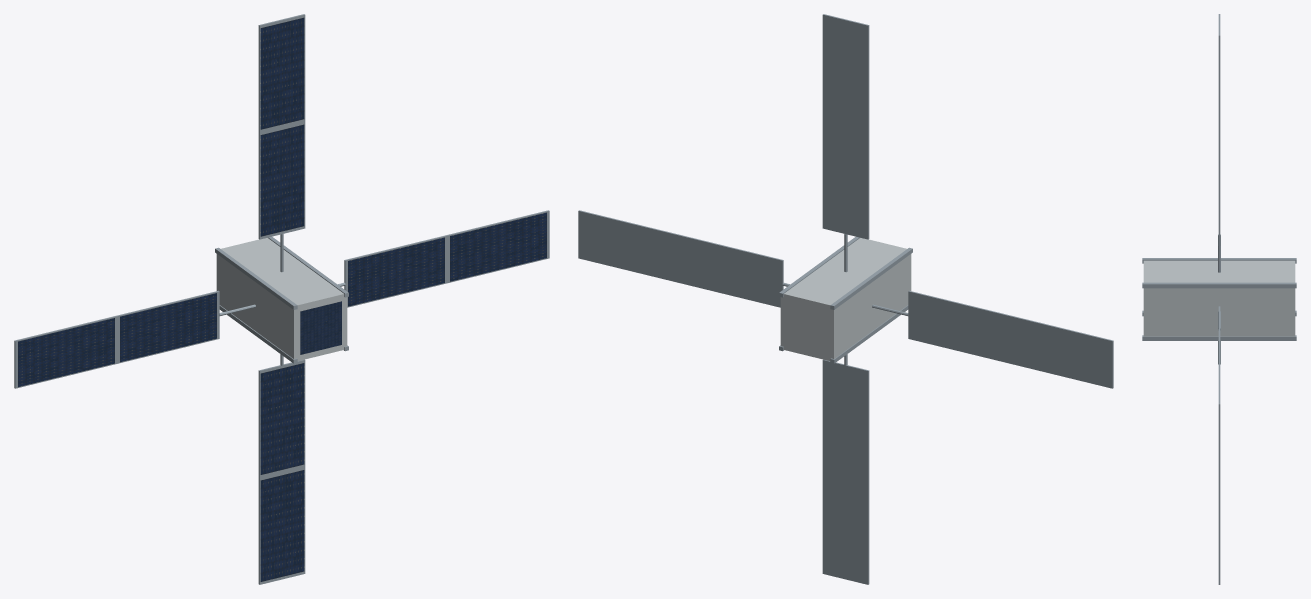
Rendered from ref-cubesat-16u-59146.glb.
3 renders of one model, left to right at view 1: azimuth 30°, elevation 25°; view 2: azimuth 150°, elevation 25°; view 3: azimuth 270°, elevation 25°, orthographic.
Parts seen in each view (by area): view 1: Photovoltaic laminates (×8), Spacecraft body, Array frame (×8), Body-mounted cells; view 2: Array frame (×8), Spacecraft body; view 3: Spacecraft body, Dispenser rail (×3), Array frame (×4).
Boxes of the visible parts, left/top/right/bottom form: Photovoltaic laminates (×8): left=18, top=17, right=546, bottom=581; Spacecraft body: left=216, top=238, right=347, bottom=360; Array frame (×8): left=14, top=14, right=549, bottom=584; Body-mounted cells: left=300, top=301, right=341, bottom=354; Array frame (×8): left=578, top=14, right=1113, bottom=584; Spacecraft body: left=780, top=238, right=911, bottom=360; Spacecraft body: left=1143, top=260, right=1295, bottom=336; Dispenser rail (×3): left=1142, top=258, right=1296, bottom=340; Array frame (×4): left=1218, top=14, right=1220, bottom=584.
Bounding box in the file's own units: 2 × 2 × 0.51.
3 materials, 1 textured.
